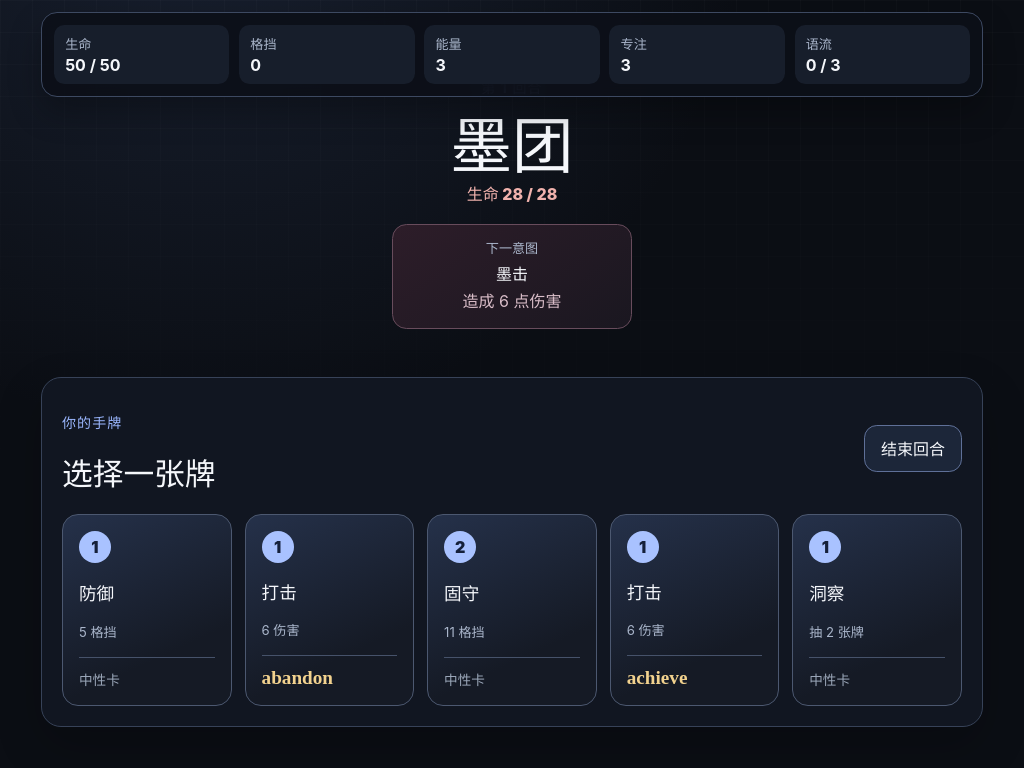
Scenario: BattleScreen › keeps an overcharge exercise and its feedback inside the battle screen
The image size is (1024, 768).
(page scrolled)
Click the button "1 打击 6 伤害 abandon": point(329, 610) [244,514,414,706]
(page scrolled)
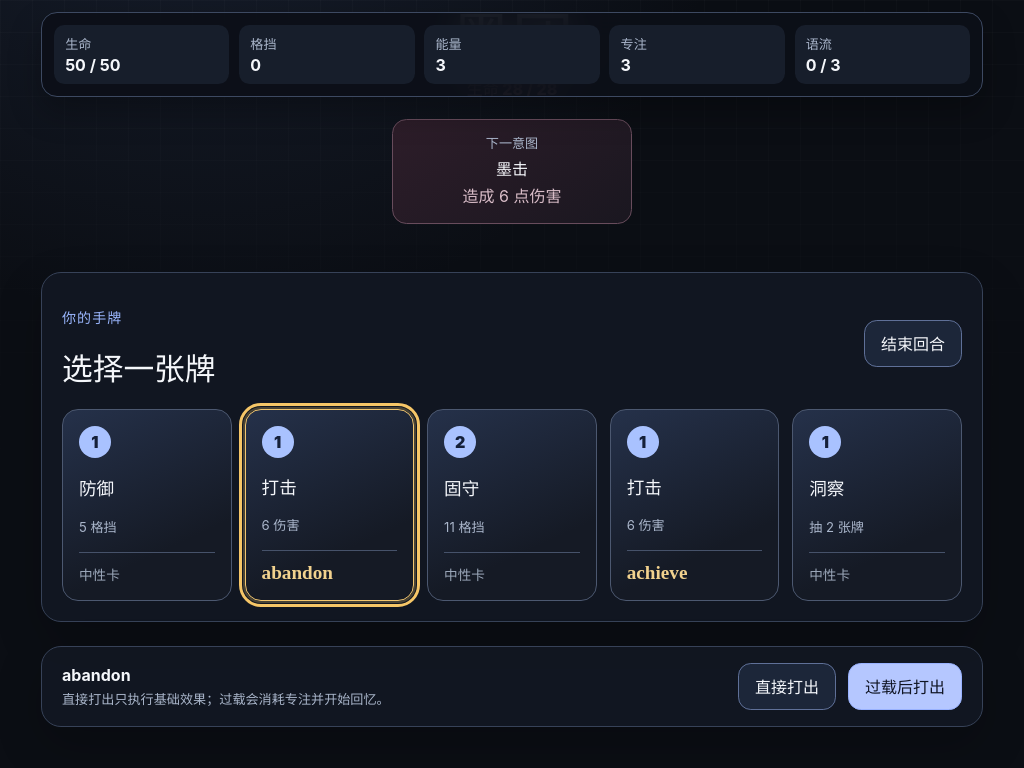
Click the button "过载后打出": point(905, 686) [848,663,962,710]
(page scrolled)
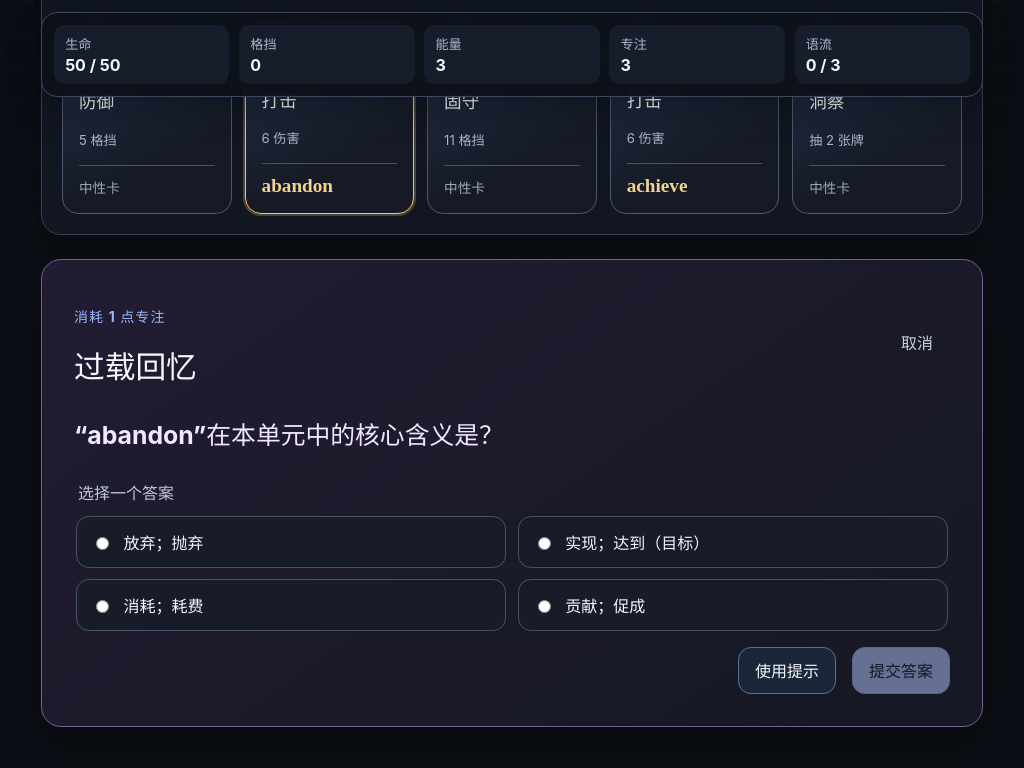
Expected: the heading "过载回忆" is shown, [74,342,197,387]
Click the radio button labelled "放弃；抛弃": point(103, 544) [96,537,109,550]
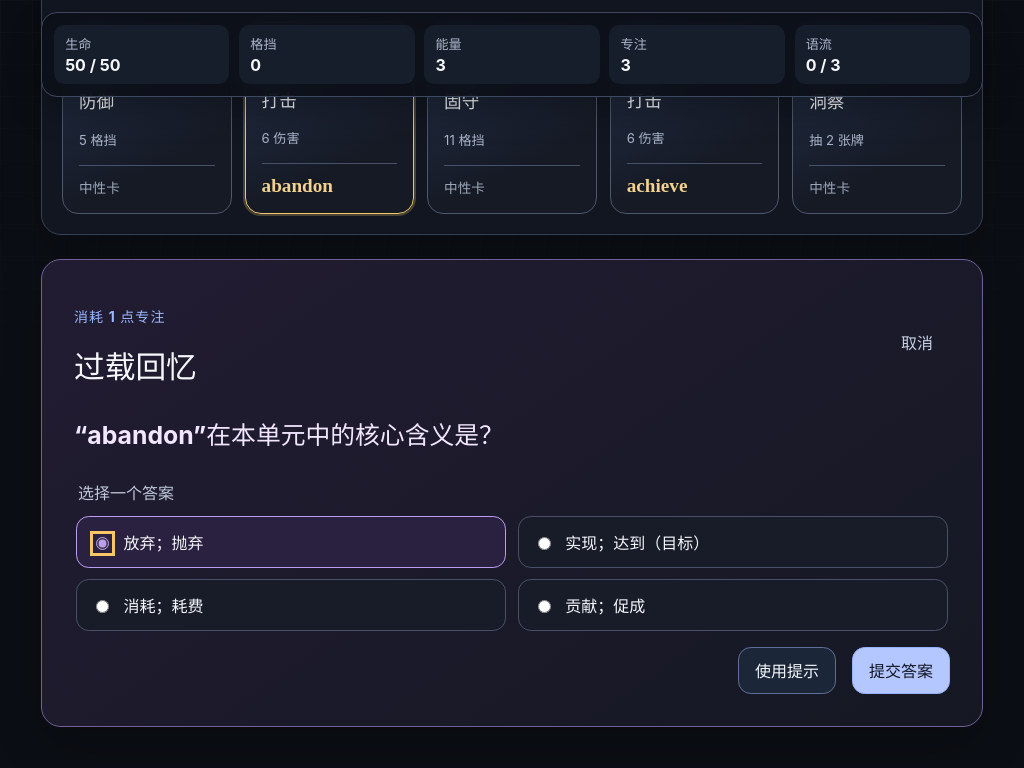
Click the button "提交答案": point(901, 670) [852,647,950,694]
(page scrolled)
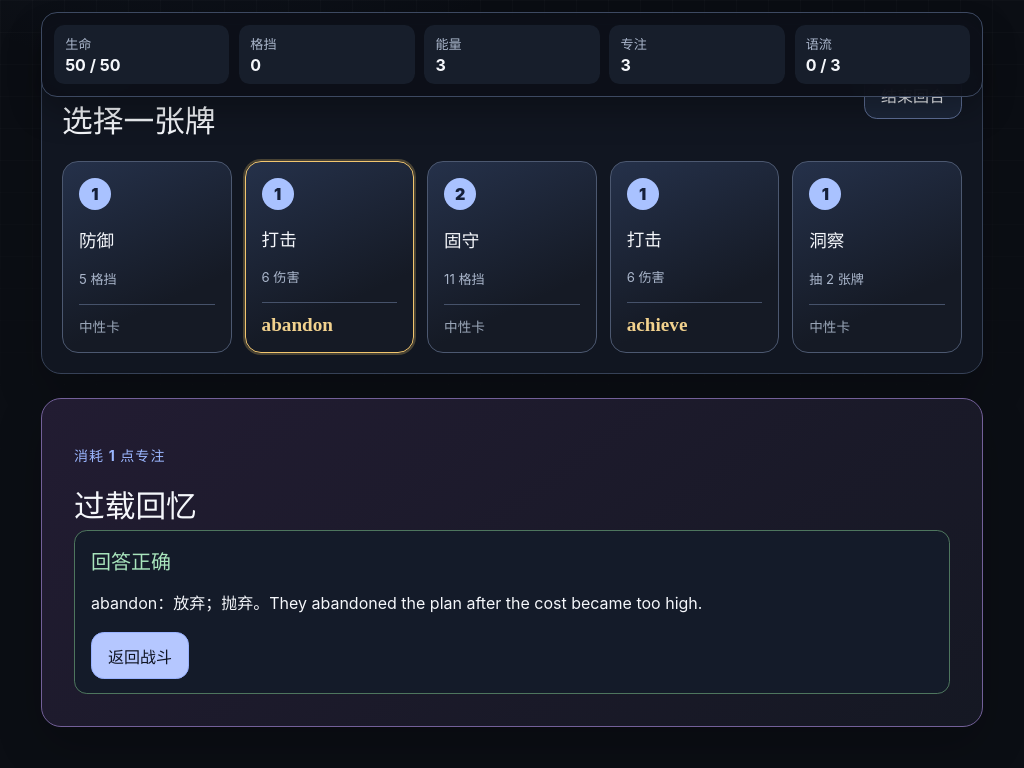
Expected: the message shows "回答正确", [91,550,171,574]
Click the button "返回战斗": point(140, 656) [91,632,189,679]
(page scrolled)
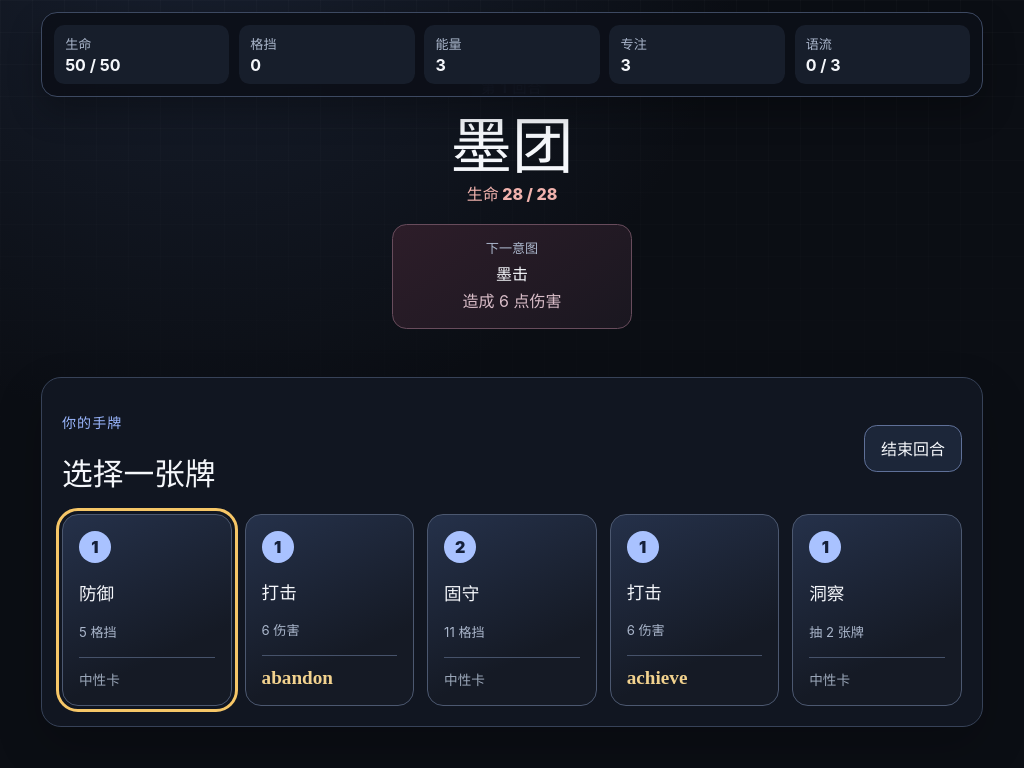
Expected: the heading "过载回忆" is gone
